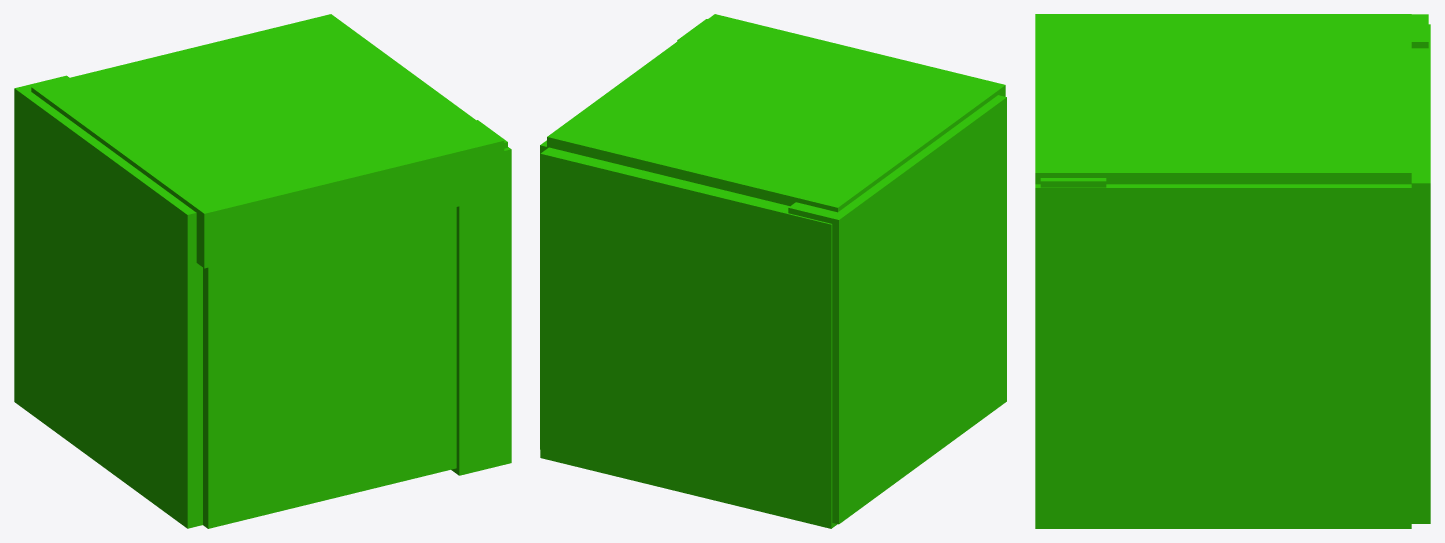
Rendered from env_3.gltf.
The picture shows the model from 3 angles, left to right: view 1: azimuth 30°, elevation 25°; view 2: azimuth 150°, elevation 25°; view 3: azimuth 270°, elevation 25°; orthographic projection. The views are drawn at different scales.
Visible parts, largest first — view 1: Cube.003, Cube.006, Cube.005, Cube.002; view 2: Cube.001, Cube.005, Cube.003; view 3: Cube.002, Cube.003, Cube.001, Cube.006, Cube.005.
Part boxes in pixels (x1,y1,x2,y2): Cube.003: [31, 14, 504, 268]; Cube.006: [203, 120, 507, 528]; Cube.005: [14, 75, 202, 528]; Cube.002: [451, 147, 511, 475]; Cube.001: [540, 147, 837, 528]; Cube.005: [788, 95, 1006, 524]; Cube.003: [547, 14, 1005, 212]; Cube.002: [1035, 184, 1411, 528]; Cube.003: [1035, 14, 1411, 184]; Cube.001: [1411, 24, 1430, 523]; Cube.006: [1040, 178, 1106, 187]; Cube.005: [1411, 14, 1428, 48].
Size of the model in its own units: 563 by 552 by 562.
Materials: 3 (3 with a texture image).
